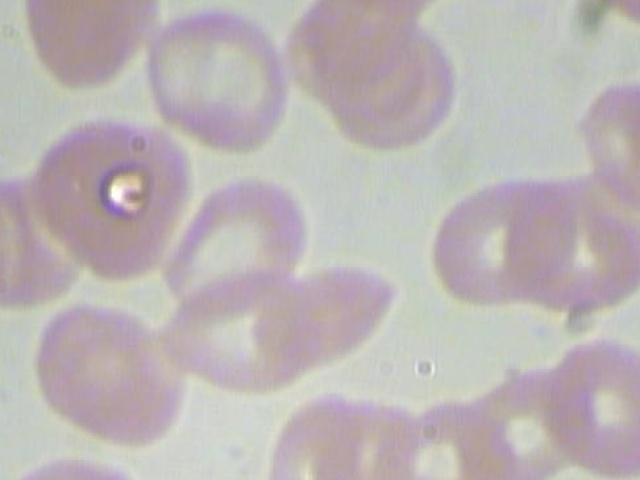RBC: (21, 105, 191, 287), (22, 292, 197, 455), (143, 0, 307, 157), (245, 244, 397, 380), (428, 167, 580, 303), (470, 356, 612, 480), (2, 0, 176, 97), (536, 319, 640, 480), (390, 383, 511, 480), (251, 390, 359, 480), (315, 386, 417, 480), (0, 457, 151, 480)
